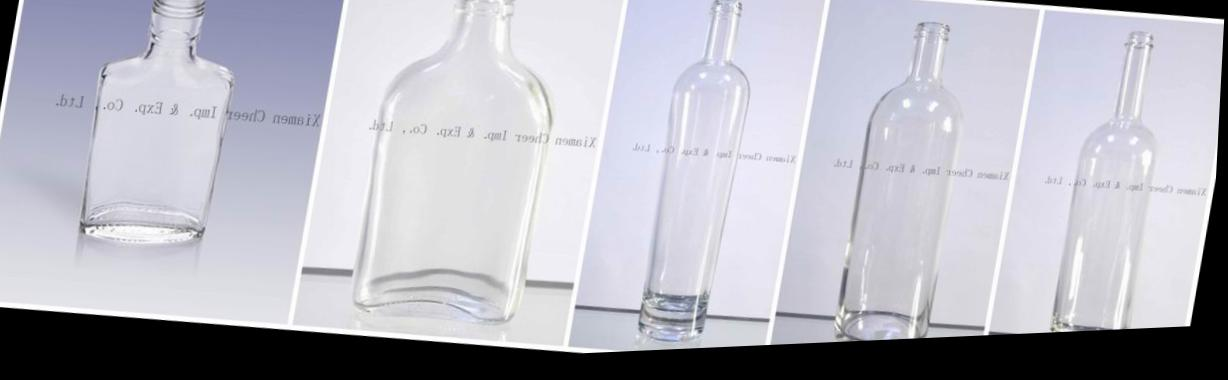glass: (353, 0, 551, 324), (570, 0, 709, 349), (835, 21, 962, 340), (638, 0, 749, 345), (81, 0, 233, 245), (1052, 32, 1156, 331)
